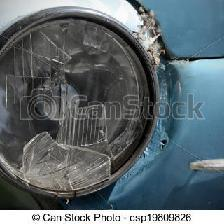broken_light: (70, 131, 111, 165)
